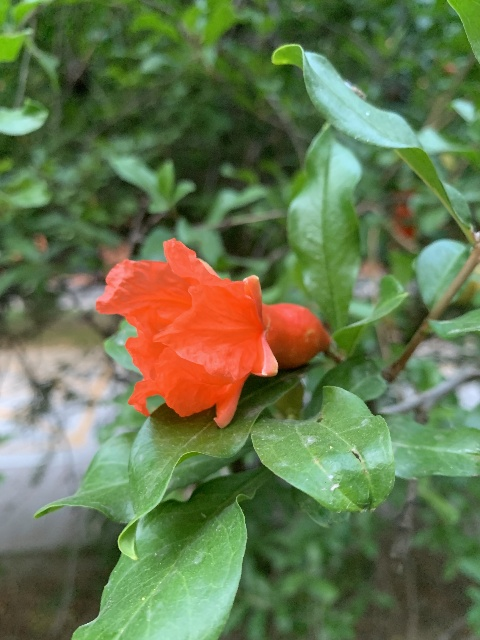flower: (95, 236, 327, 426)
